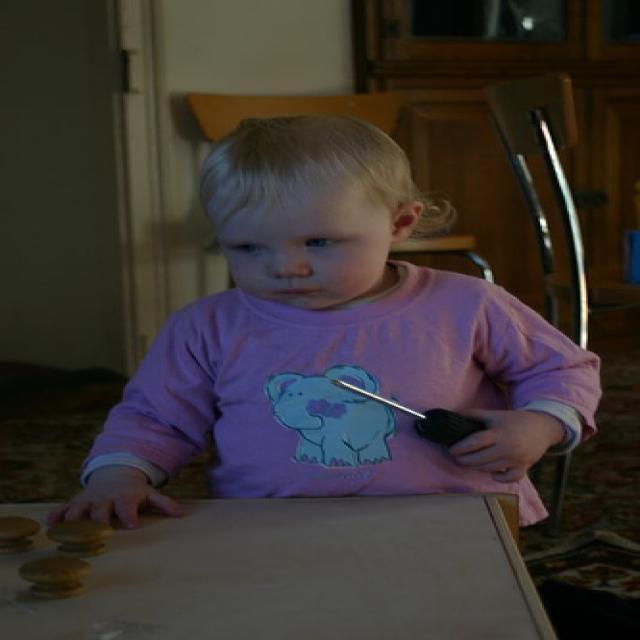screwdriver: (316, 369, 509, 454)
